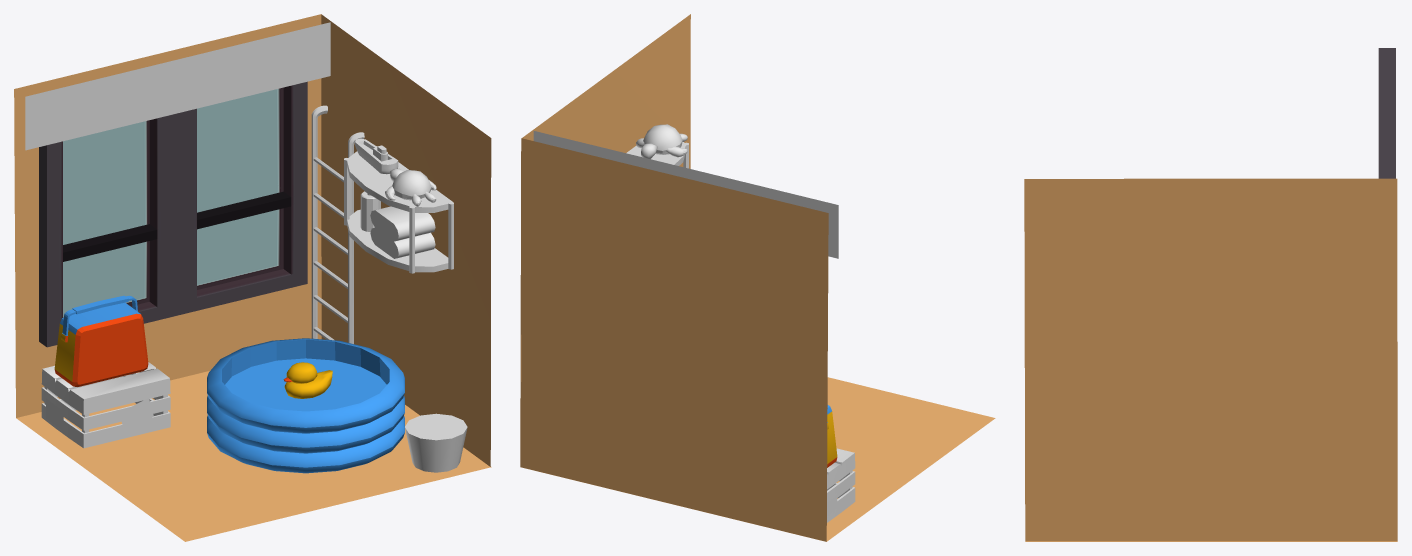
Rendered from bg guest 22222.FBX.
3 views of the same model, side by side, from view 1: azimuth 30°, elevation 25°; view 2: azimuth 150°, elevation 25°; view 3: azimuth 270°, elevation 25° (orthographic). The views are drawn at different scales.
Parts seen in each view (by area): view 1: Cylinder001, door, Plane002, Guest2, Box001, Cylinder002; view 2: Cylinder001, Plane002, Guest2, Box001; view 3: Cylinder001, door.
Part boxes in pixels (x1,y1,x2,y2): Cylinder001: [14, 14, 491, 541]; door: [39, 81, 307, 347]; Plane002: [25, 22, 330, 431]; Guest2: [311, 105, 453, 343]; Box001: [41, 362, 170, 448]; Cylinder002: [405, 413, 467, 472]; Cylinder001: [520, 14, 995, 541]; Plane002: [533, 131, 838, 519]; Guest2: [626, 124, 688, 168]; Box001: [827, 448, 855, 522]; Cylinder001: [1024, 178, 1397, 541]; door: [1378, 48, 1395, 178].
Size of the model in its own units: 188 by 192 by 179.
